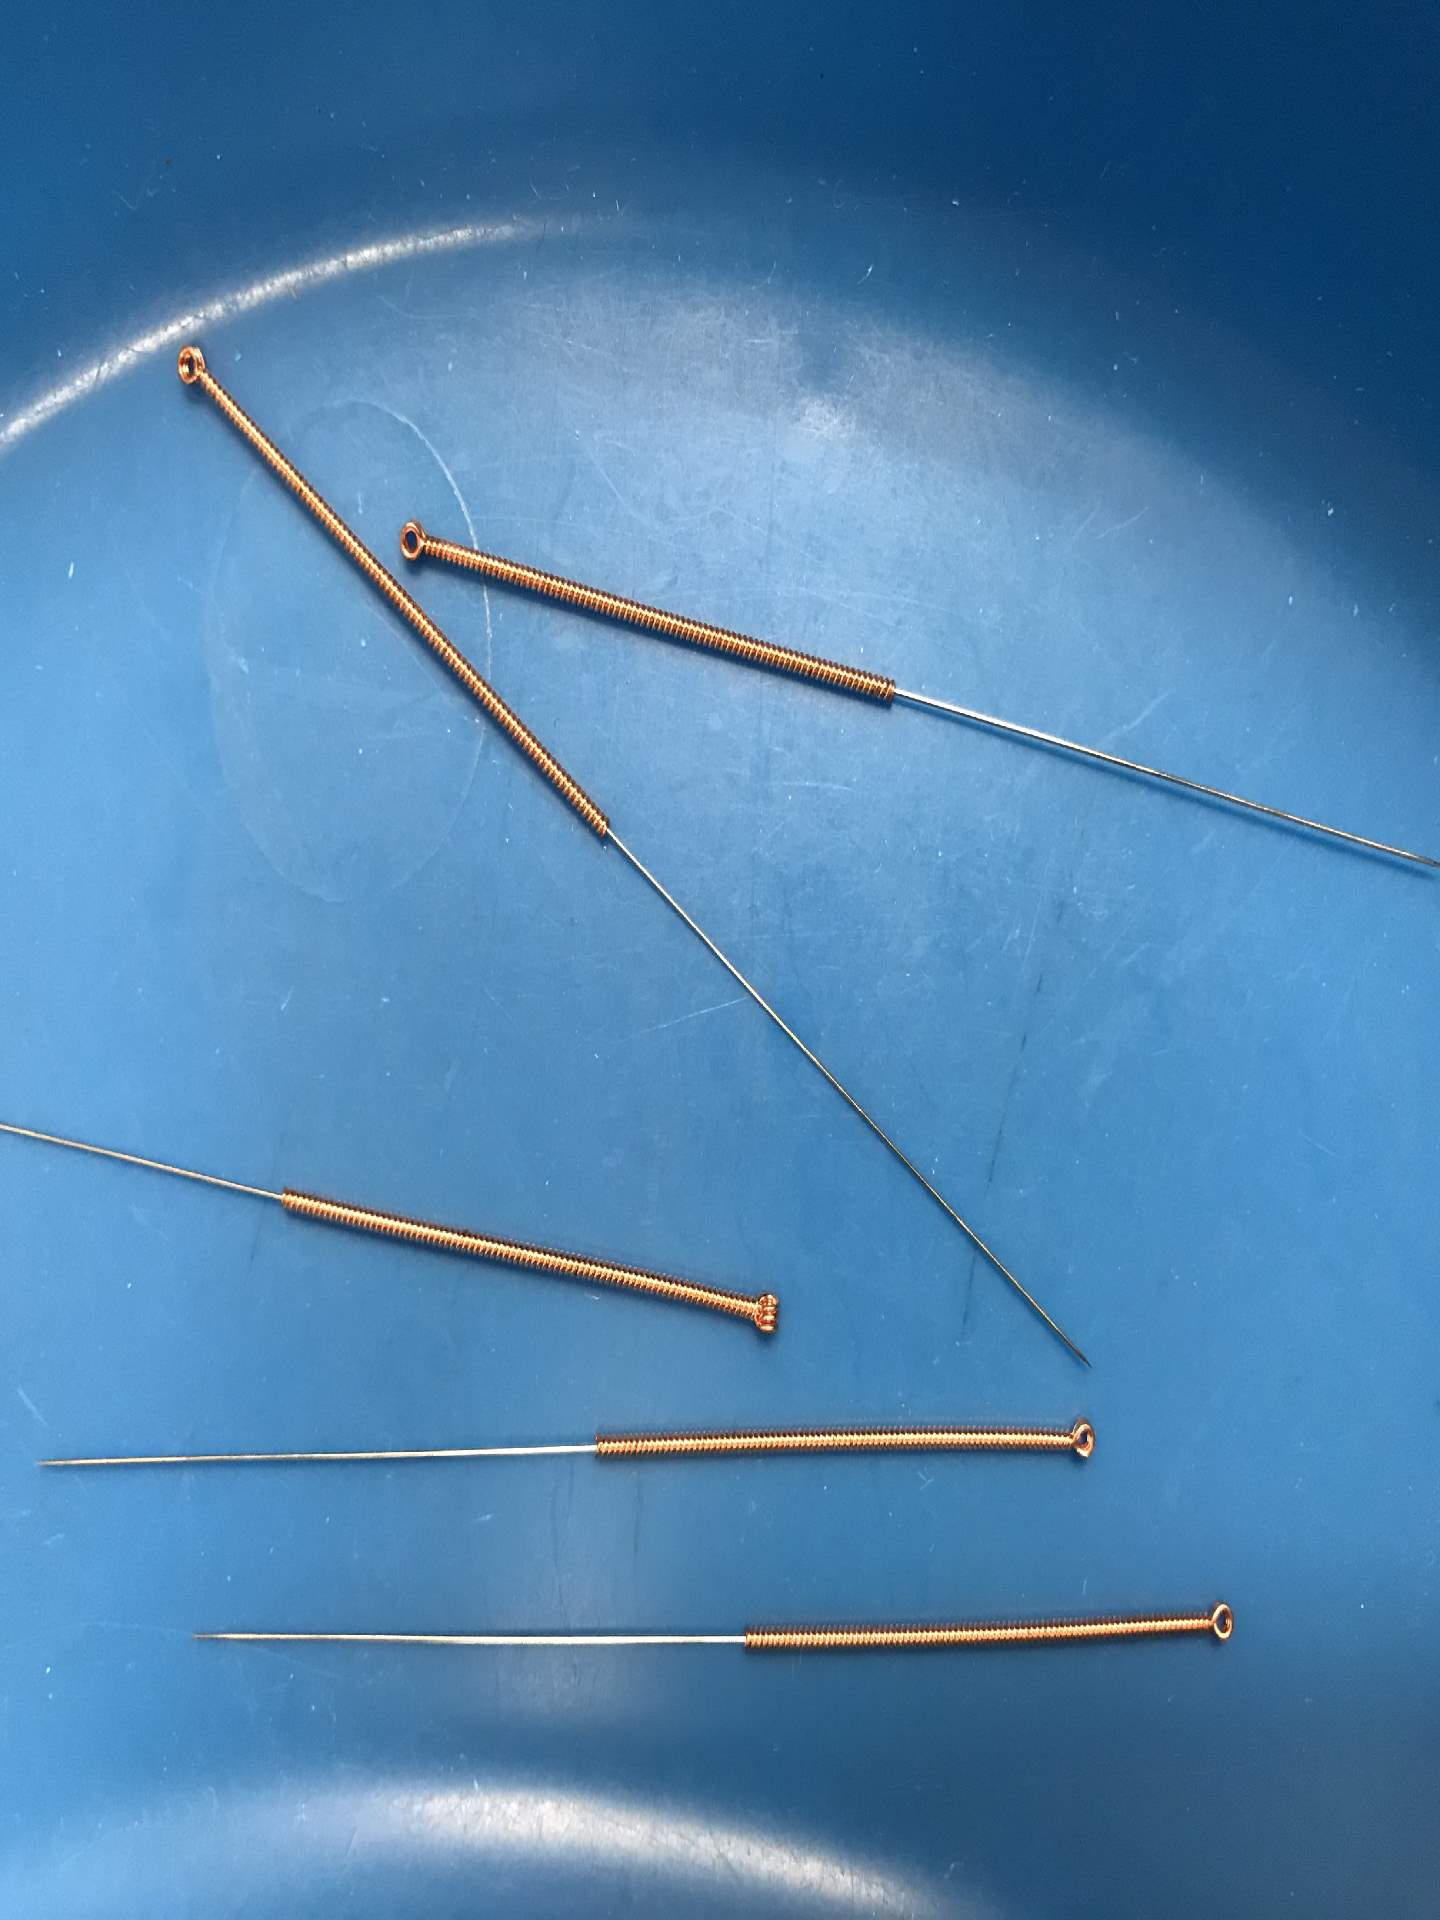needle: (160, 330, 227, 410), (1044, 1404, 1112, 1476), (383, 506, 446, 578), (731, 1277, 794, 1349), (1190, 1587, 1246, 1661)
